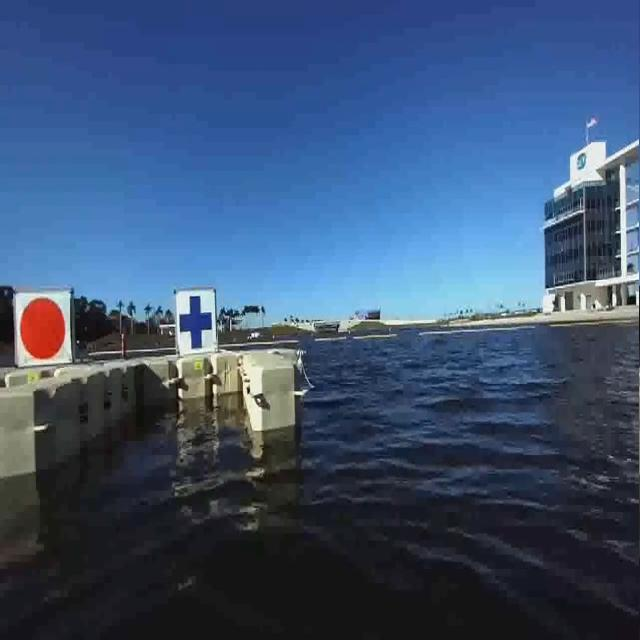blue-cross: (176, 288, 217, 352)
red-dot: (14, 280, 89, 368)
